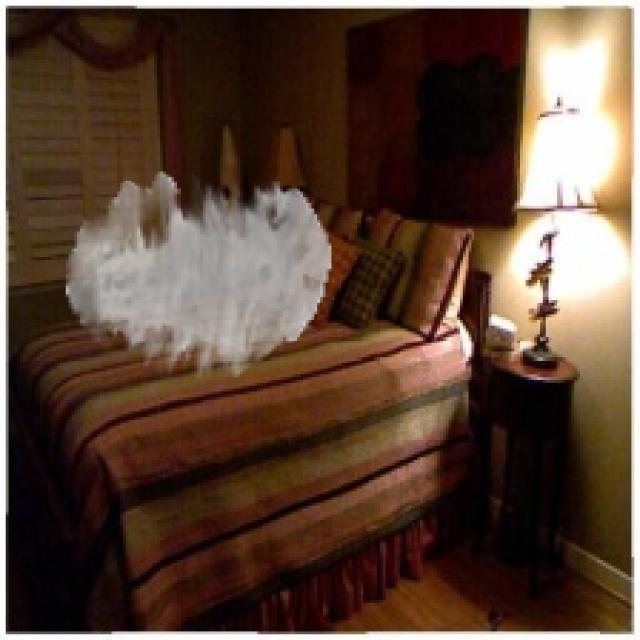Smoke: (66, 171, 332, 380)
